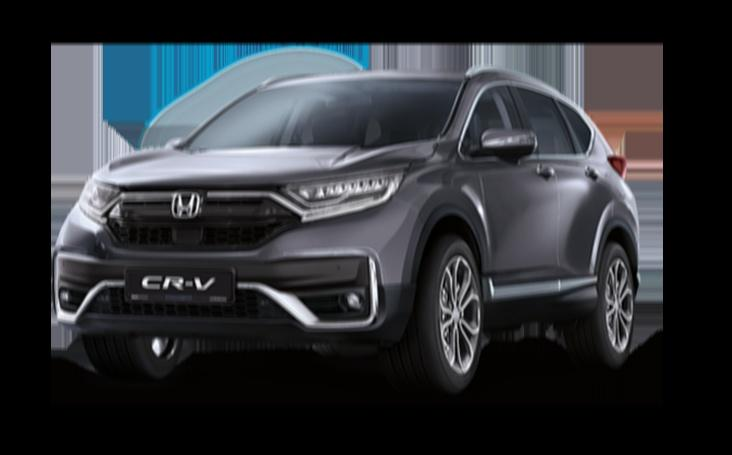Car hood: (89, 135, 444, 189)
Fender - -F-L-: (392, 133, 495, 306)
Fender - -R-L-: (608, 168, 637, 243)
Front bumper: (51, 202, 433, 356)
Headlight - -L-: (271, 158, 413, 226)
Headlight - -R-: (73, 173, 136, 224)
Passenger-s door - -F-L-: (482, 72, 559, 307)
Passenger-s door - -R-L-: (525, 71, 616, 307)
Rear light - -L-: (601, 144, 636, 186)
Side bumper - -L-: (473, 272, 605, 332)
Side mirror - -L-: (465, 123, 540, 169)
Side mirror - -R-: (160, 131, 193, 157)
